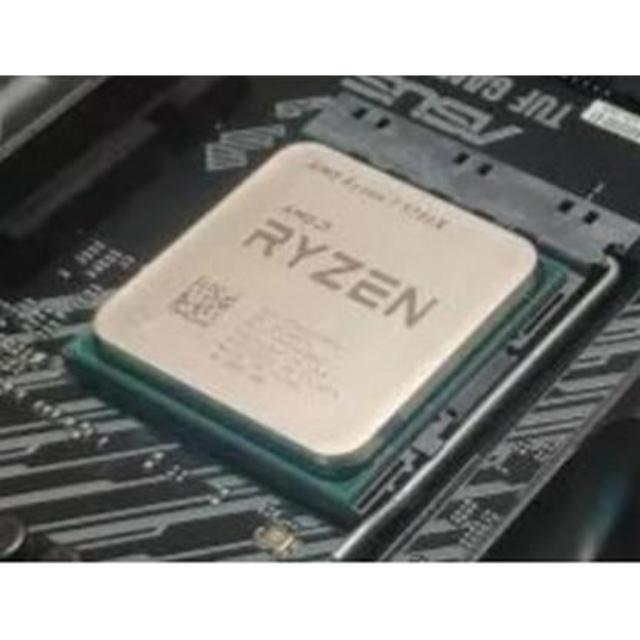CPU: (94, 143, 548, 466)
